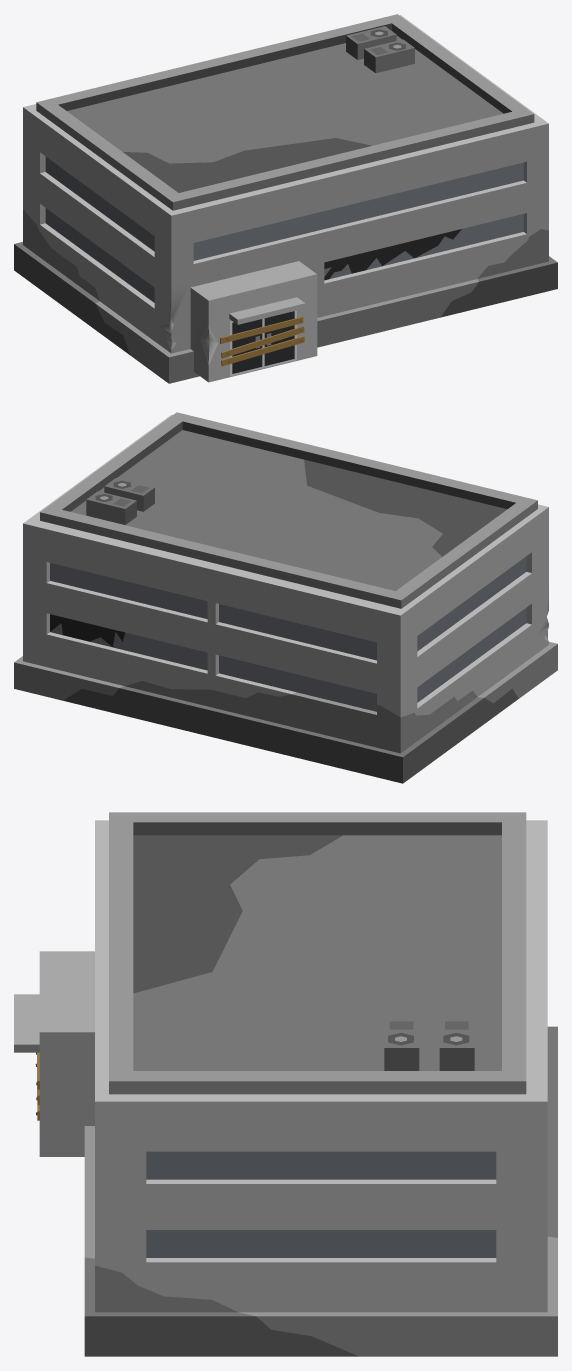
The model's file is SA_Bld_HospitalOffice_Damaged_01.gltf.
The picture shows the model from 3 angles, top to bottom: view 1: azimuth 30°, elevation 25°; view 2: azimuth 150°, elevation 25°; view 3: azimuth 270°, elevation 25°; orthographic projection. The views are drawn at different scales.
Visible parts, largest first — view 1: SA_Bld_HospitalOffice_Damaged_01; view 2: SA_Bld_HospitalOffice_Damaged_01; view 3: SA_Bld_HospitalOffice_Damaged_01.
Part boxes in pixels (x1=…): SA_Bld_HospitalOffice_Damaged_01: x1=14, y1=14, x2=557, y2=383; SA_Bld_HospitalOffice_Damaged_01: x1=14, y1=412, x2=557, y2=783; SA_Bld_HospitalOffice_Damaged_01: x1=14, y1=812, x2=557, y2=1356.
Bounding box in the file's own units: 27.13 × 12.02 × 21.53.
1 material, 1 textured.
